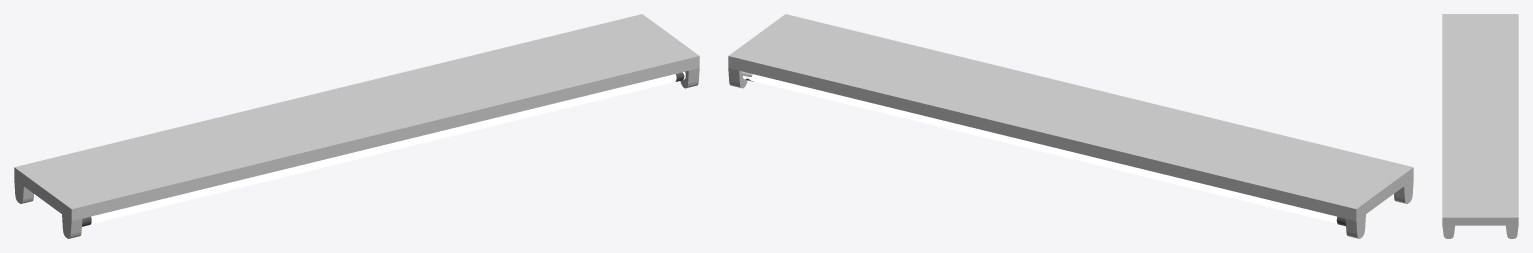
The model's file is CeilingLamp.fbx.
The picture shows the model from 3 angles, left to right: view 1: azimuth 30°, elevation 25°; view 2: azimuth 150°, elevation 25°; view 3: azimuth 270°, elevation 25°; orthographic projection. The views are drawn at different scales.
Visible parts, largest first — view 1: LampBody, CylinderLampGlass; view 2: LampBody, CylinderLampGlass.002; view 3: LampBody.
Boxes of the visible parts, bbox=[...] form: LampBody: bbox=[14, 14, 699, 238]; CylinderLampGlass: bbox=[91, 71, 685, 223]; LampBody: bbox=[728, 14, 1413, 238]; CylinderLampGlass.002: bbox=[743, 74, 1336, 223]; LampBody: bbox=[1442, 14, 1518, 238].
Size of the model in its own units: 280 by 14 by 44.28.
